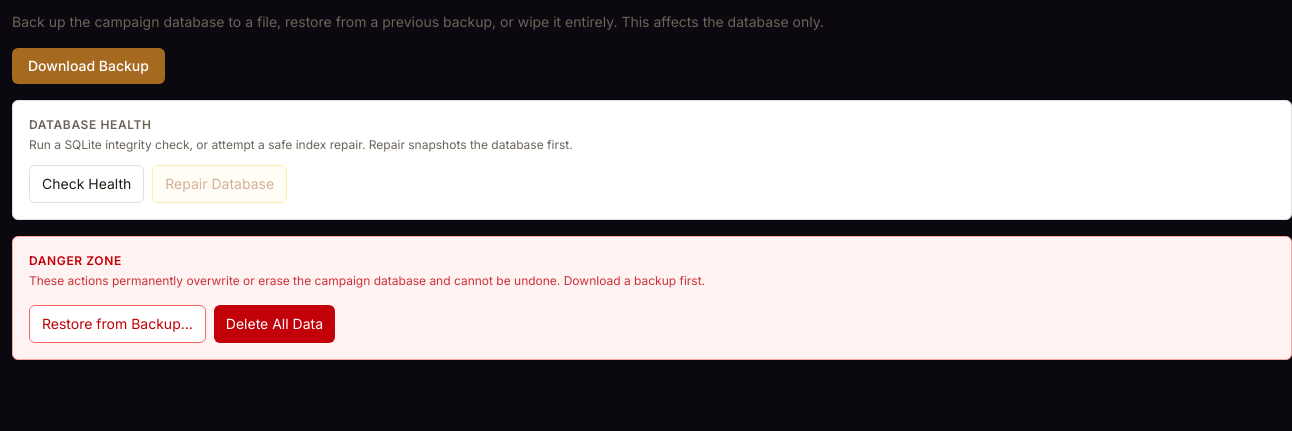
Test: DataManagementPage › downloads a backup
Click the button "Download Backup": (88, 66) [12, 48, 165, 84]
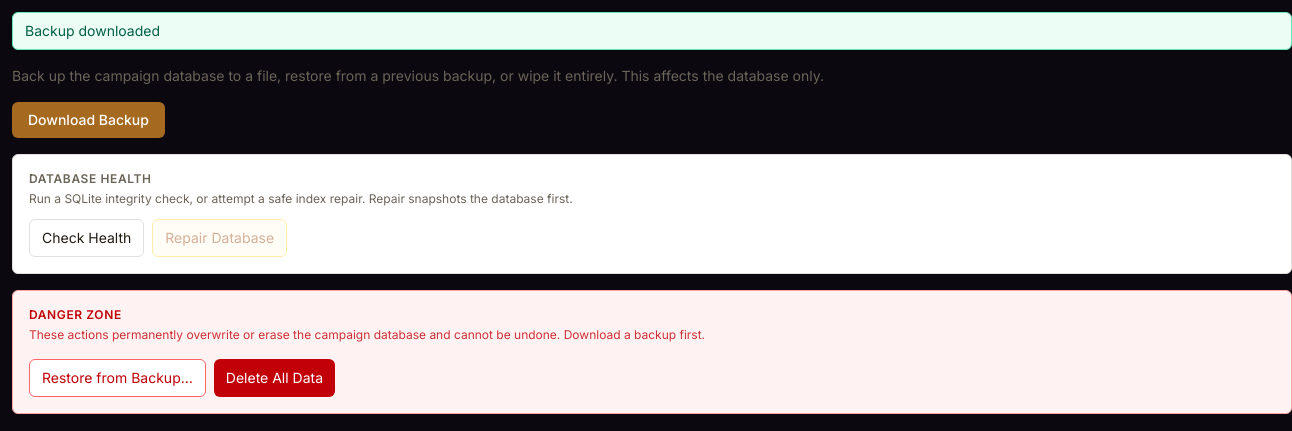
Check: the text "Backup downloaded" is shown, box [12, 12, 1291, 50]
